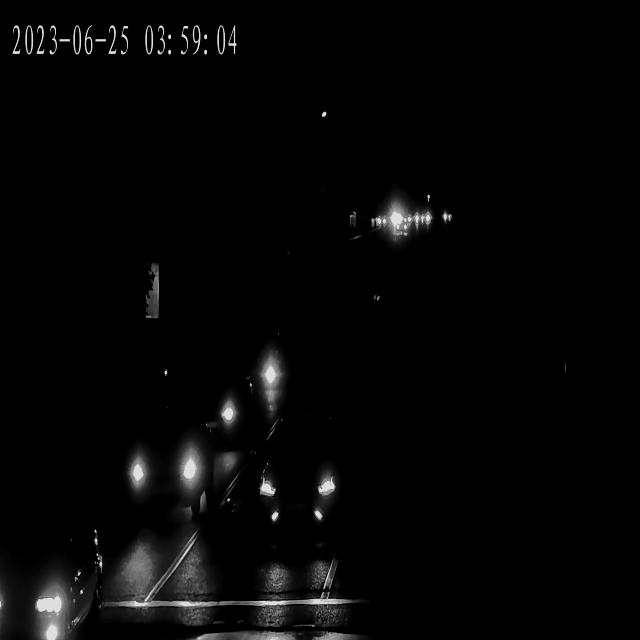Car: (0, 519, 98, 638), (112, 411, 217, 516), (248, 429, 344, 537), (158, 372, 250, 448), (238, 327, 296, 402), (368, 213, 388, 230), (372, 214, 392, 230), (414, 212, 432, 228)
